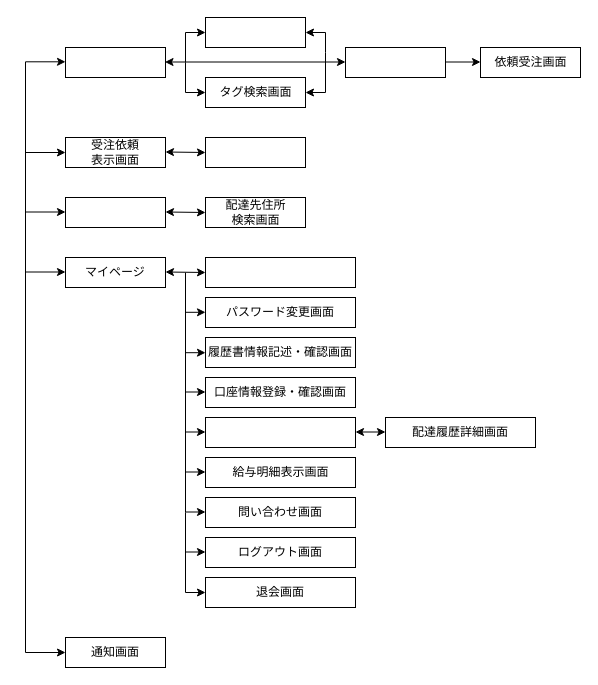
Some shapes in this 598 by 685 pixel diagram are drawn without their labels. The shapes that lost their labels are listed below. From the top down, each one's centre as x and y in pixels, then its label:
the point at 255,32: 求人検索画面
the point at 115,62: ホーム画面
the point at 395,62: 求人詳細画面
the point at 255,152: 配達完了 報告画面
the point at 115,212: マップ画面
the point at 280,272: 会員情報確認・編集画面
the point at 280,432: 配達履歴 一覧画面
